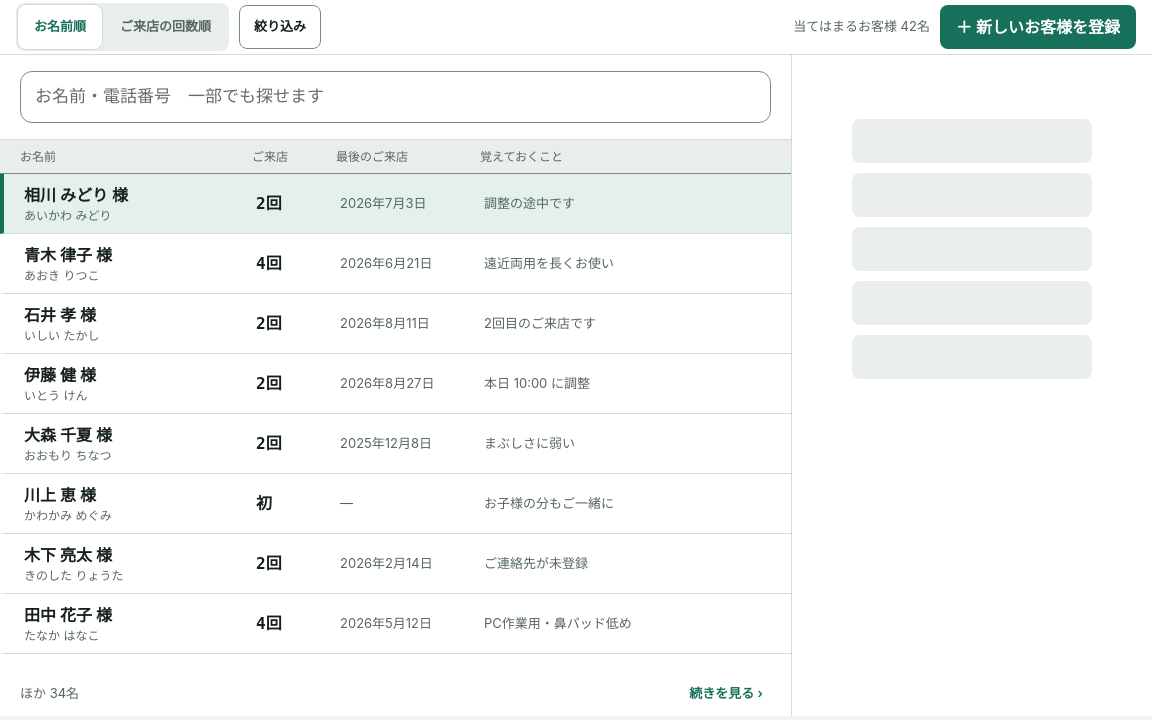
Test: 右ペインの置き場所 › 当てはまる方が 0 名になったら選択を外し、右も待ちの面に戻る
This screenshot has width=1152, height=720.
Expected: the option "相川 みどり 様 あいかわ みどり 2回 2026年7月3日 調整の途中です" is shown, [0,174,791,234]
Type "9999" into the search field named "お名前・電話番号　一部でも探せます" at {"x": 396, "y": 97}, box [20,71,771,123]
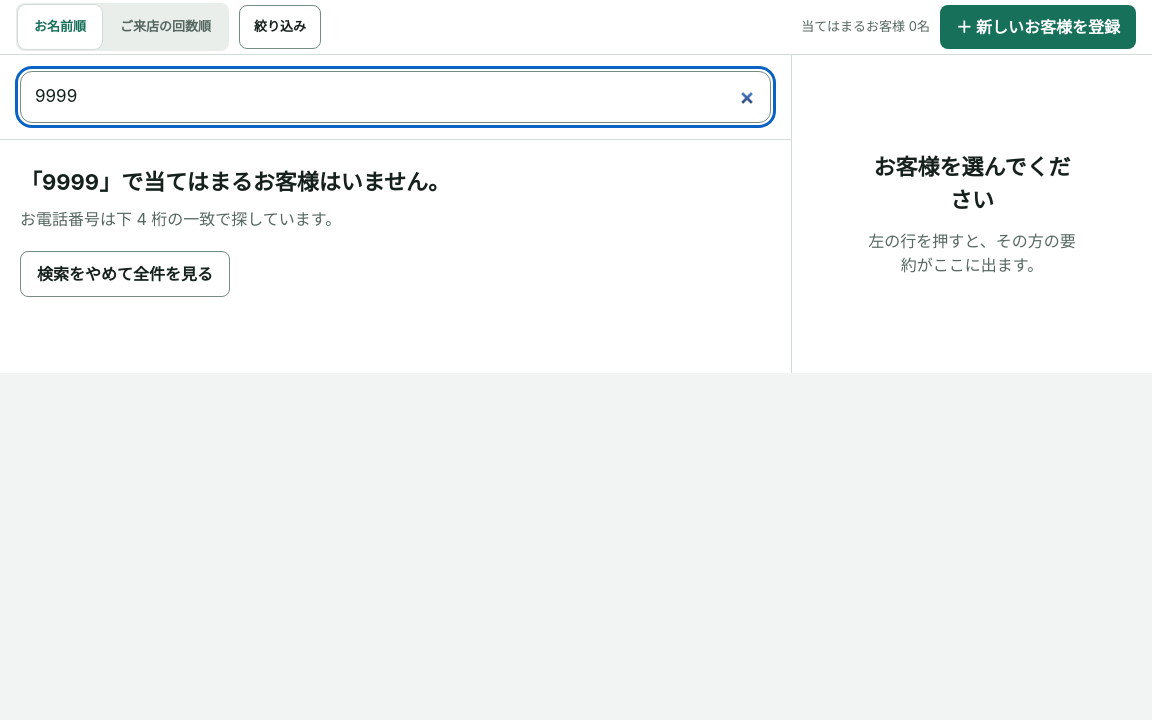
Expected: the heading "お客様を選んでください" is shown, [864,151,1080,217]
